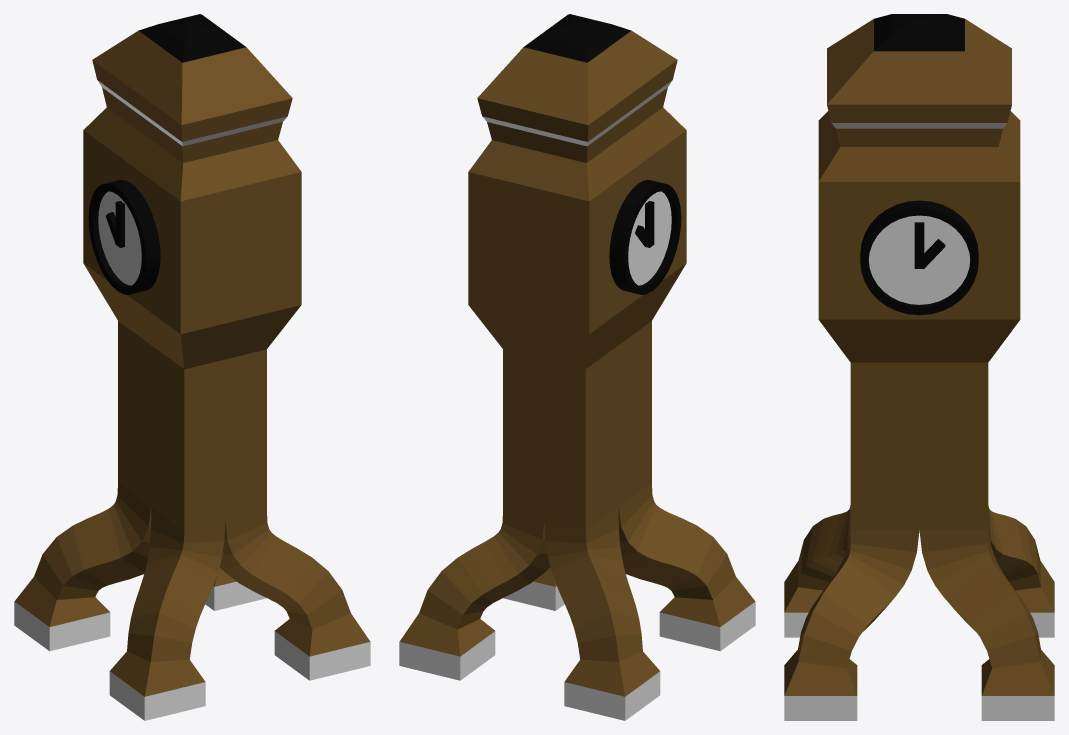
Rendered from clock1.fbx.
The picture shows the model from 3 angles, left to right: view 1: azimuth 30°, elevation 25°; view 2: azimuth 150°, elevation 25°; view 3: azimuth 270°, elevation 25°; orthographic projection. The views are drawn at different scales.
Parts seen in each view (by area): view 1: Cylinder; view 2: Cylinder; view 3: Cylinder.
Boxes of the visible parts, box(x1,y1,x2,y2) form: Cylinder: box(14, 14, 370, 720); Cylinder: box(399, 14, 755, 720); Cylinder: box(784, 14, 1054, 720).
Bounding box in the file's own units: 274 × 720 × 274.
